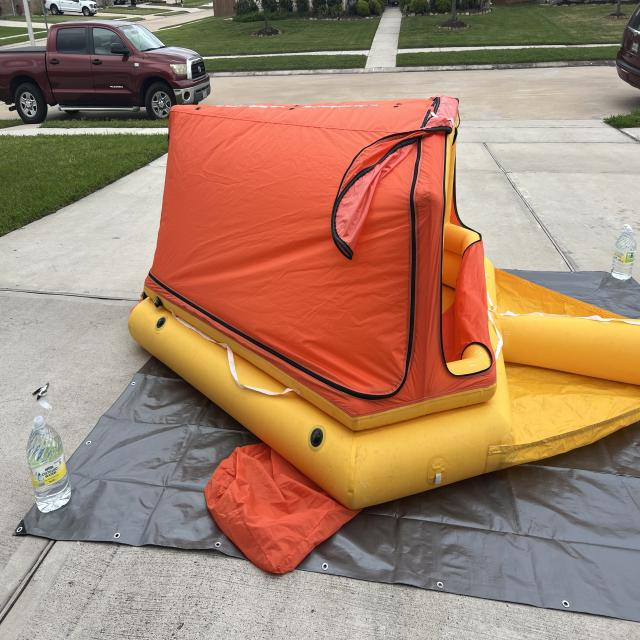Multi-person_life_raft: (127, 95, 640, 575)
